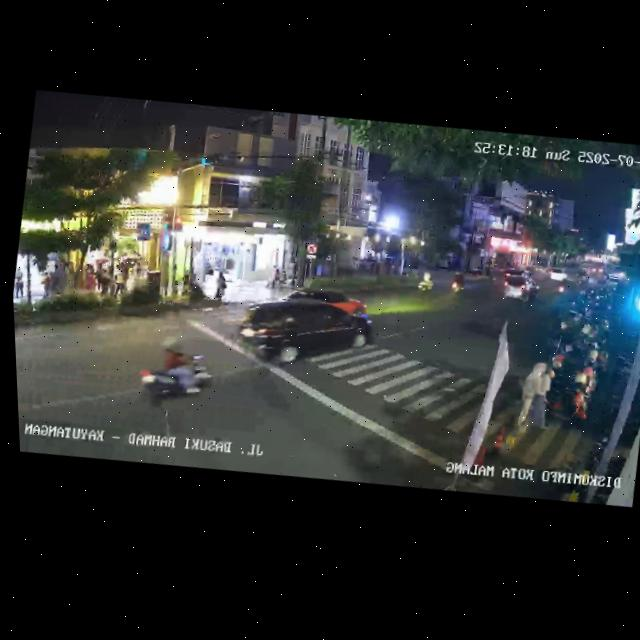car: (232, 276, 379, 384), (499, 269, 542, 306)
motorcycle: (134, 333, 219, 417), (446, 270, 468, 303), (415, 267, 436, 296)
person: (510, 354, 560, 458), (96, 262, 115, 301), (111, 263, 129, 302), (82, 262, 100, 295), (213, 270, 229, 305), (38, 272, 54, 305), (12, 273, 24, 301)
